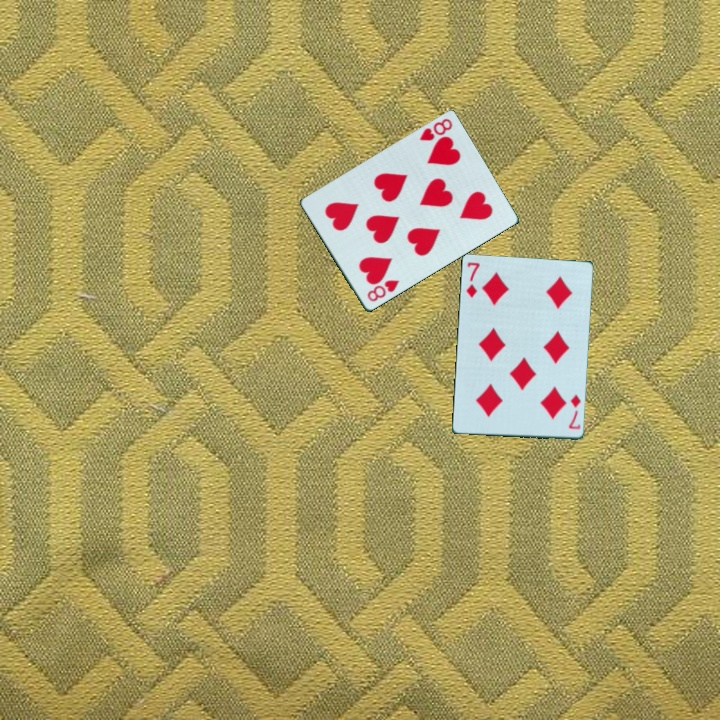7d: (463, 259, 483, 301), (565, 391, 584, 432)
8h: (416, 115, 455, 144), (364, 277, 402, 305)
